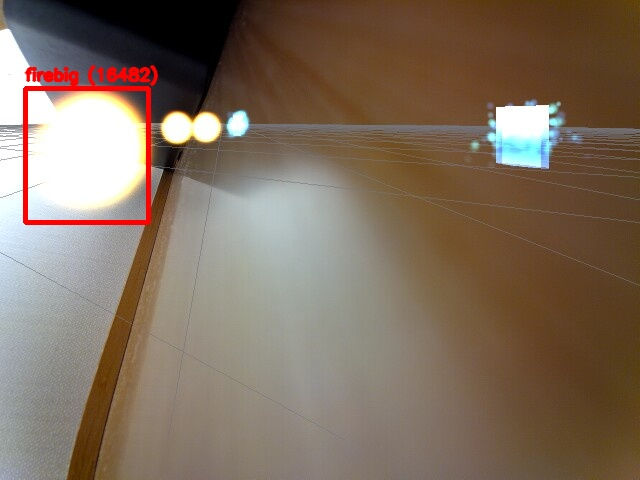firebig: (25, 88, 148, 222)
